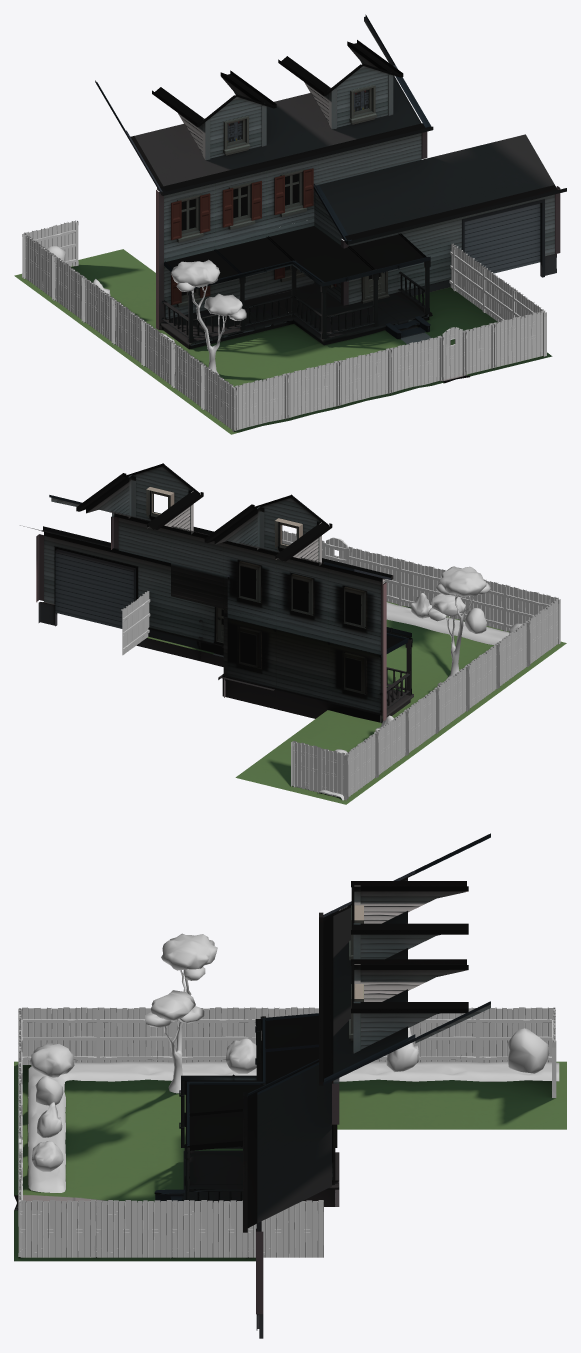
Rendered from house.fbx.
The picture shows the model from 3 angles, top to bottom: view 1: azimuth 30°, elevation 25°; view 2: azimuth 150°, elevation 25°; view 3: azimuth 270°, elevation 25°; orthographic projection. The views are drawn at different scales.
Parts seen in each view (by area): view 1: House_Baked, Fence_Optimized_Baked, Deck_Baked, Grass_Baked, Garden_Baked; view 2: House_Baked, Fence_Optimized_Baked, Grass_Baked, Garden_Baked, Deck_Baked; view 3: House_Baked, Fence_Optimized_Baked, Grass_Baked, Garden_Baked, Deck_Baked.
Part boxes in pixels (bbox=[...]): House_Baked: bbox=[95, 14, 566, 329]; Fence_Optimized_Baked: bbox=[22, 220, 546, 431]; Deck_Baked: bbox=[160, 226, 432, 349]; Grass_Baked: bbox=[14, 249, 552, 434]; Garden_Baked: bbox=[46, 246, 246, 375]; House_Baked: bbox=[20, 463, 393, 722]; Fence_Optimized_Baked: bbox=[121, 530, 560, 800]; Grass_Baked: bbox=[147, 601, 566, 804]; Garden_Baked: bbox=[318, 566, 524, 800]; Deck_Baked: bbox=[197, 616, 413, 722]; House_Baked: bbox=[243, 833, 490, 1338]; Fence_Optimized_Baked: bbox=[18, 1007, 556, 1258]; Grass_Baked: bbox=[14, 1061, 566, 1261]; Garden_Baked: bbox=[28, 933, 559, 1192]; Deck_Baked: bbox=[154, 1013, 339, 1202].
Size of the model in its own units: 2060 by 1027 by 1821.
